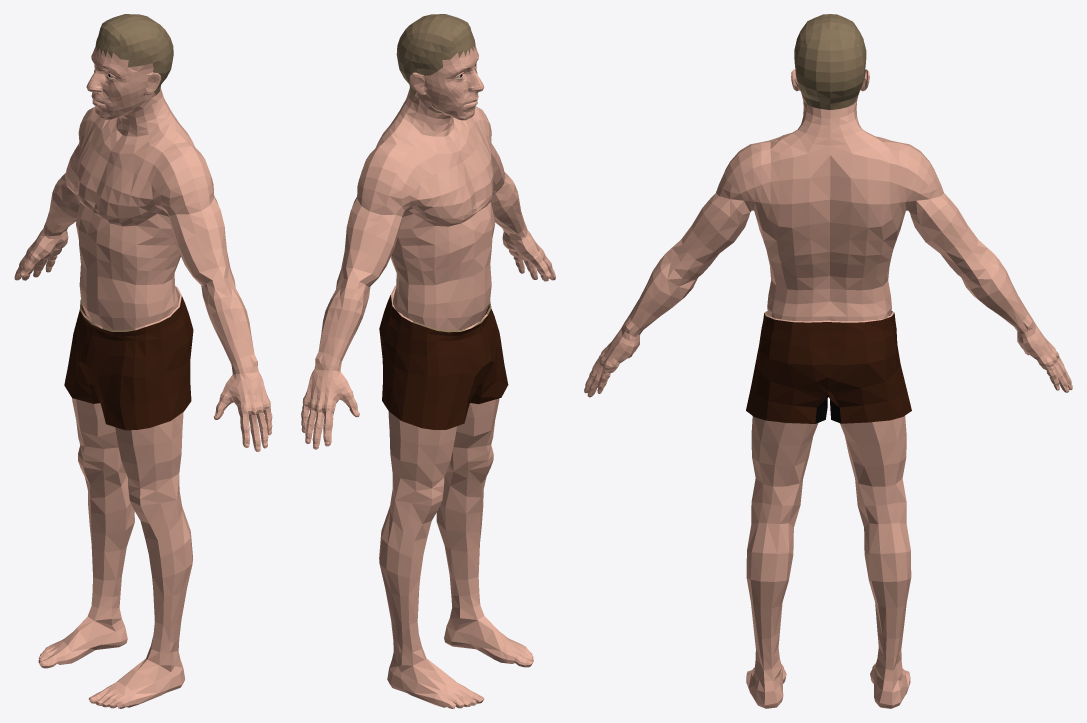
File: HighP_man.fbx
3 views of the same model, side by side, from view 1: azimuth 30°, elevation 25°; view 2: azimuth 150°, elevation 25°; view 3: azimuth 270°, elevation 25° (orthographic). The views are drawn at different scales.
Visible parts, largest first — view 1: L337N09PCEA4YR9WDA9O86Y5P; view 2: L337N09PCEA4YR9WDA9O86Y5P; view 3: L337N09PCEA4YR9WDA9O86Y5P.
Boxes of the visible parts, x1,y1,x2,y2 form: L337N09PCEA4YR9WDA9O86Y5P: (14, 14, 272, 708); L337N09PCEA4YR9WDA9O86Y5P: (301, 14, 555, 708); L337N09PCEA4YR9WDA9O86Y5P: (584, 14, 1072, 708).
Bounding box in the file's own units: 107 × 568 × 369.
